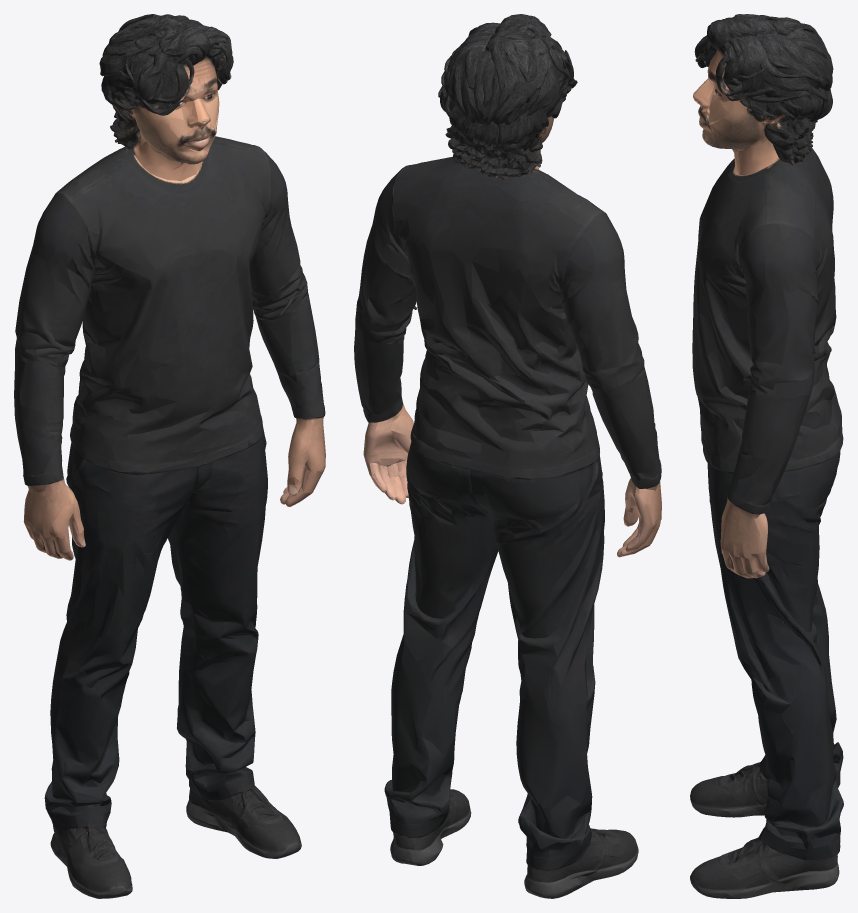
Rendered from you-optimized.glb.
The picture shows the model from 3 angles, left to right: view 1: azimuth 30°, elevation 25°; view 2: azimuth 150°, elevation 25°; view 3: azimuth 270°, elevation 25°; orthographic projection.
Parts seen in each view (by area): view 1: output_unwrapped; view 2: output_unwrapped; view 3: output_unwrapped.
Boxes of the visible parts, x1=… form: output_unwrapped: x1=14, y1=14, x2=325, y2=898; output_unwrapped: x1=354, y1=14, x2=661, y2=898; output_unwrapped: x1=690, y1=14, x2=843, y2=898.
Bounding box in the file's own units: 0.7076 × 1.9 × 0.3201.
1 material, 1 textured.
